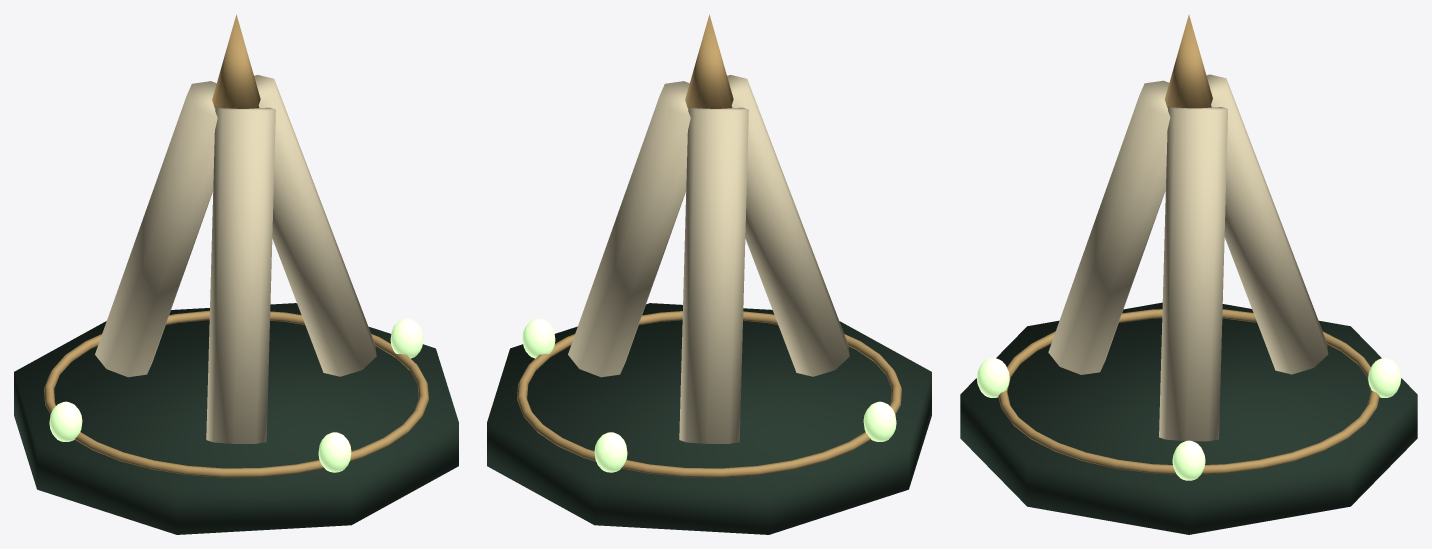
3 renders of one model, left to right at view 1: azimuth 30°, elevation 25°; view 2: azimuth 150°, elevation 25°; view 3: azimuth 270°, elevation 25°, orthographic.
Parts seen in each view (by area): view 1: Hexagonal plinth, Martyrs Memorial petal.002, Martyrs Memorial petal.001, Martyrs Memorial petal, Inlaid rim, Memory crown, Garden inlay.003, Garden inlay.002, Garden inlay; view 2: Hexagonal plinth, Martyrs Memorial petal.001, Martyrs Memorial petal, Martyrs Memorial petal.002, Inlaid rim, Memory crown, Garden inlay.001, Garden inlay.002, Garden inlay; view 3: Hexagonal plinth, Martyrs Memorial petal, Martyrs Memorial petal.002, Martyrs Memorial petal.001, Inlaid rim, Memory crown, Garden inlay, Garden inlay.001, Garden inlay.003.
Boxes of the visible parts, <box> form: Hexagonal plinth: <box>14,303,458,534</box>; Martyrs Memorial petal.002: <box>206,107,275,443</box>; Martyrs Memorial petal.001: <box>95,81,217,377</box>; Martyrs Memorial petal: <box>254,75,376,376</box>; Inlaid rim: <box>44,310,428,477</box>; Memory crown: <box>212,14,260,108</box>; Garden inlay.003: <box>318,432,351,472</box>; Garden inlay.002: <box>49,401,82,441</box>; Garden inlay: <box>390,318,423,358</box>; Hexagonal plinth: <box>487,303,931,534</box>; Martyrs Memorial petal.001: <box>679,107,748,443</box>; Martyrs Memorial petal: <box>568,81,690,377</box>; Martyrs Memorial petal.002: <box>727,75,849,376</box>; Inlaid rim: <box>517,311,901,477</box>; Memory crown: <box>685,14,733,108</box>; Garden inlay.001: <box>594,432,627,472</box>; Garden inlay.002: <box>863,401,896,441</box>; Garden inlay: <box>522,318,555,358</box>; Hexagonal plinth: <box>960,302,1417,534</box>; Martyrs Memorial petal: <box>1159,106,1227,441</box>; Martyrs Memorial petal.002: <box>1048,80,1170,374</box>; Martyrs Memorial petal.001: <box>1206,74,1328,374</box>; Inlaid rim: <box>998,309,1379,474</box>; Memory crown: <box>1164,15,1212,108</box>; Garden inlay: <box>1172,440,1205,480</box>; Garden inlay.001: <box>1368,358,1401,397</box>; Garden inlay.003: <box>976,358,1009,397</box>.
Size of the model in its own units: 1.52 by 1.55 by 1.52.
